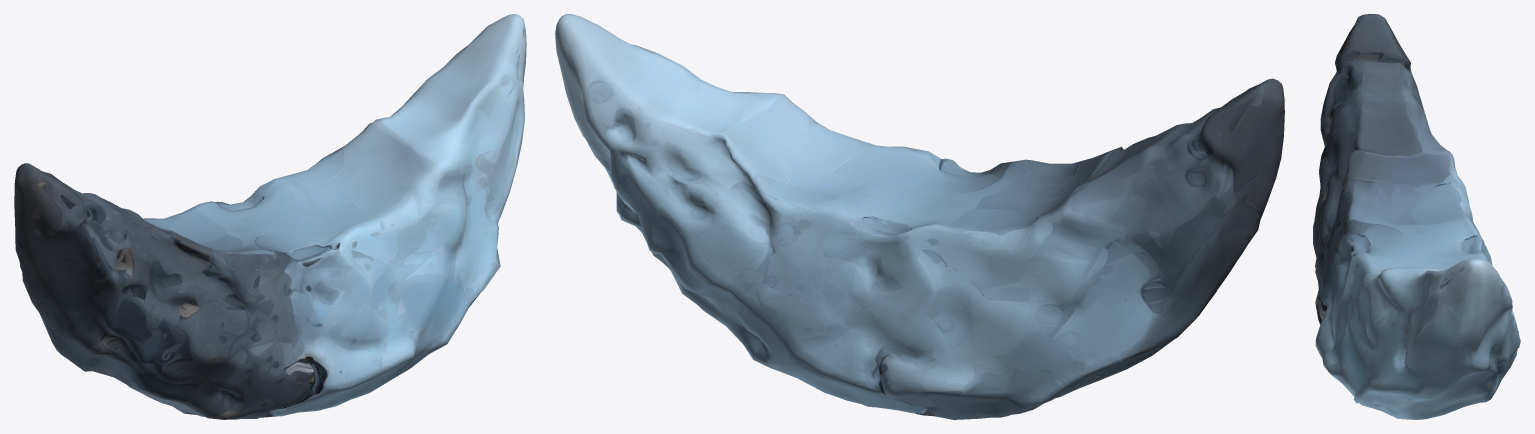
File: splinter_tripo.glb
3 views of the same model, side by side, from view 1: azimuth 30°, elevation 25°; view 2: azimuth 150°, elevation 25°; view 3: azimuth 270°, elevation 25° (orthographic). The views are drawn at different scales.
Parts seen in each view (by area): view 1: moon shard 3d model; view 2: moon shard 3d model; view 3: moon shard 3d model.
Boxes of the visible parts, <box> form: moon shard 3d model: <box>14,14,526,419</box>; moon shard 3d model: <box>555,14,1284,419</box>; moon shard 3d model: <box>1313,14,1520,419</box>.
Size of the model in its own units: 0.9791 by 0.527 by 0.3734.
Materials: 1 (1 with a texture image).
